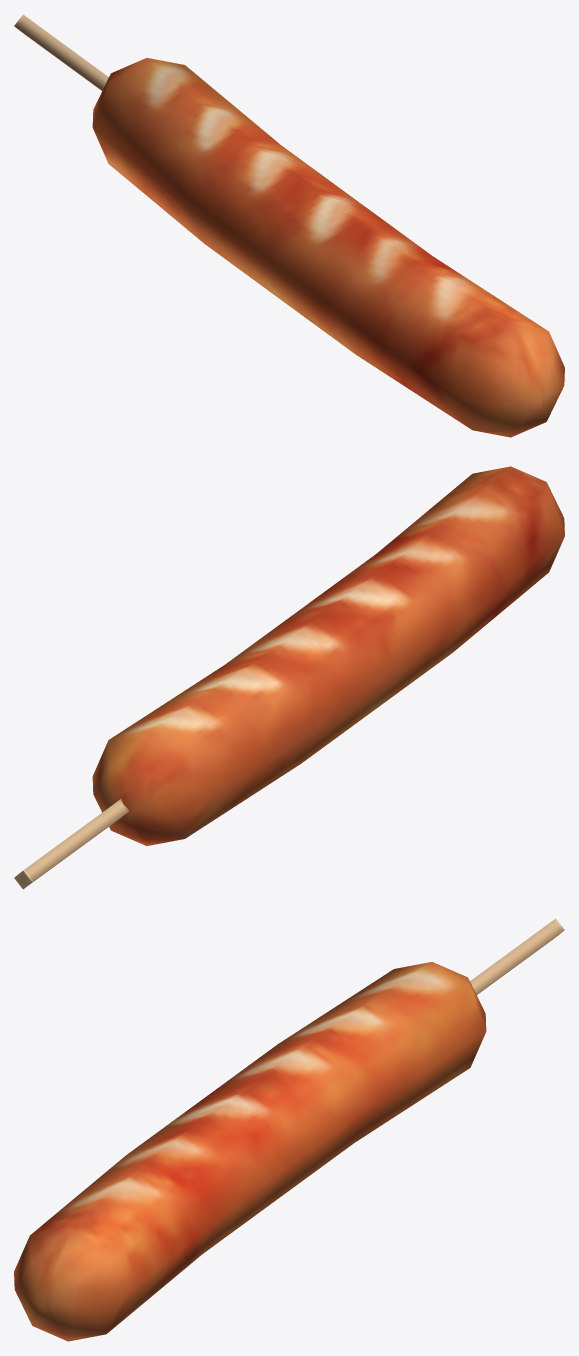
File: jsf_Frankfurt_b02.fbx
3 views of the same model, one above another, from view 1: azimuth 30°, elevation 25°; view 2: azimuth 150°, elevation 25°; view 3: azimuth 330°, elevation 25° (orthographic).
Visible parts, largest first — view 1: jsf_Frankfurt_b02; view 2: jsf_Frankfurt_b02; view 3: jsf_Frankfurt_b02.
Part boxes in pixels (x1,y1,x2,y2): jsf_Frankfurt_b02: [14, 14, 564, 437]; jsf_Frankfurt_b02: [14, 466, 564, 889]; jsf_Frankfurt_b02: [14, 918, 564, 1341].
Size of the model in its own units: 3.73 by 3.42 by 28.25.
